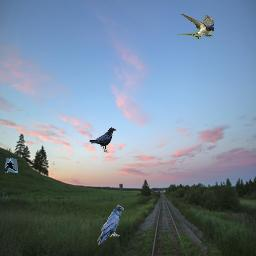Crow: (97, 205, 124, 245), (89, 127, 117, 153), (5, 158, 18, 173)
Swallow: (177, 13, 214, 39)
